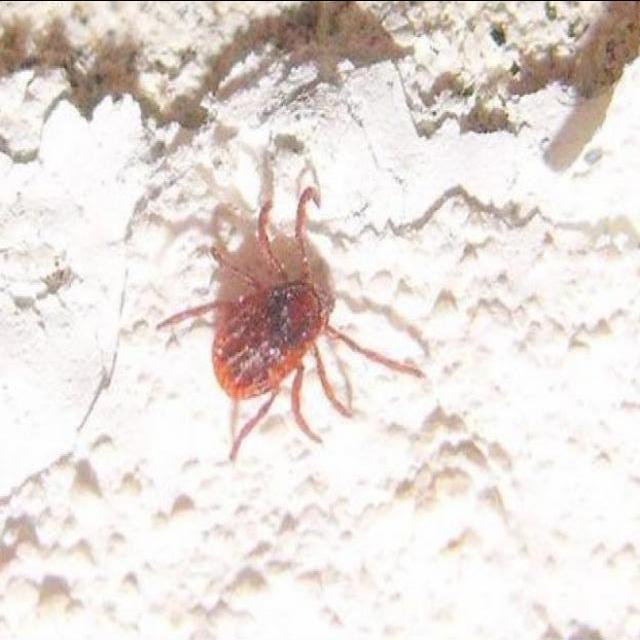Rhipicephalus Sanguineus-F: (155, 168, 426, 460)
